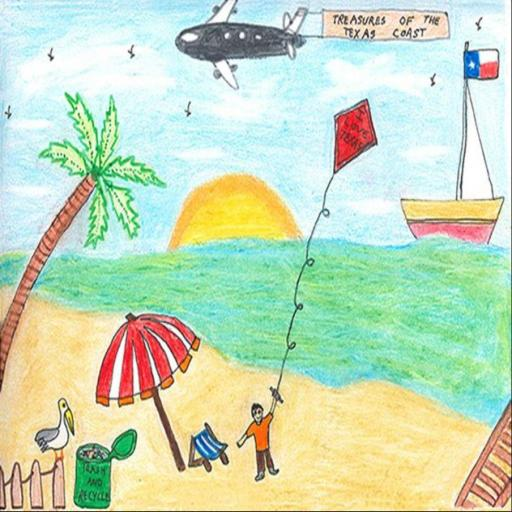person: (234, 385, 286, 487)
